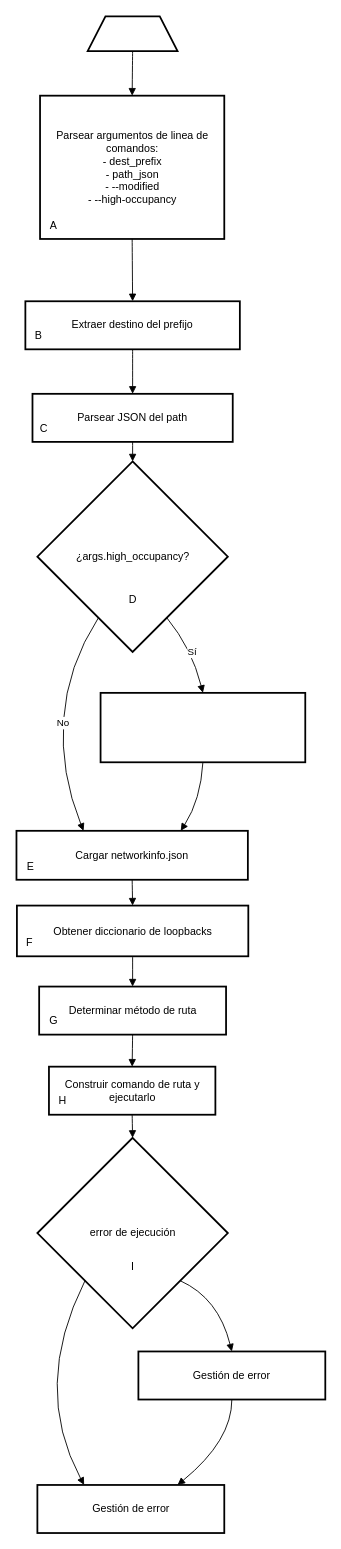
The diagram is 341 pixels wide and 1549 high, and some of its shapes have lost their labels. Each missing label, with the centre of its shape:
Imprimir AVISO: ruta con alta ocupación: point 202,727
main(): point 132,33
